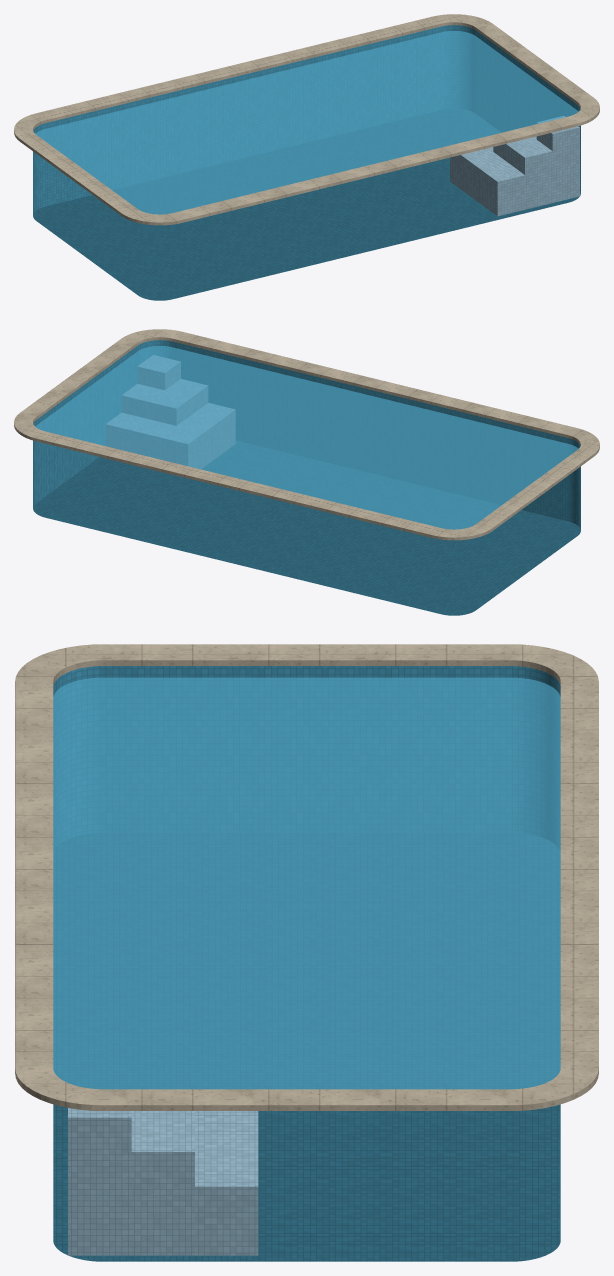
File: rectangulaire-8x4.glb
The picture shows the model from 3 angles, top to bottom: view 1: azimuth 30°, elevation 25°; view 2: azimuth 150°, elevation 25°; view 3: azimuth 270°, elevation 25°; orthographic projection. The views are drawn at different scales.
Parts seen in each view (by area): view 1: eau, fond, bassin, margelle, marche-3, marche-2, marche-1; view 2: eau, fond, bassin, margelle, marche-3, marche-2, marche-1; view 3: eau, fond, bassin, margelle, marche-3, marche-2, marche-1.
Part boxes in pixels (x1,y1,x2,y2): eau: (35,31,578,214); fond: (33,109,580,300); bassin: (33,25,580,214); margelle: (14,14,599,225); marche-3: (450,147,579,216); marche-2: (493,136,579,209); marche-1: (536,116,579,202); eau: (35,346,578,529); fond: (33,440,580,615); bassin: (33,340,580,529); margelle: (14,329,599,540); marche-3: (106,403,235,478); marche-2: (122,379,207,425); marche-1: (138,355,180,389); eau: (53,677,560,1089); fond: (53,833,560,1261); bassin: (53,666,560,850); margelle: (15,644,598,1110); marche-3: (68,1111,258,1255); marche-2: (68,1111,194,1255); marche-1: (68,1108,131,1255).
Bounding box in the file's own units: 8.6 × 1.5 × 4.6.
5 materials, 4 textured.
